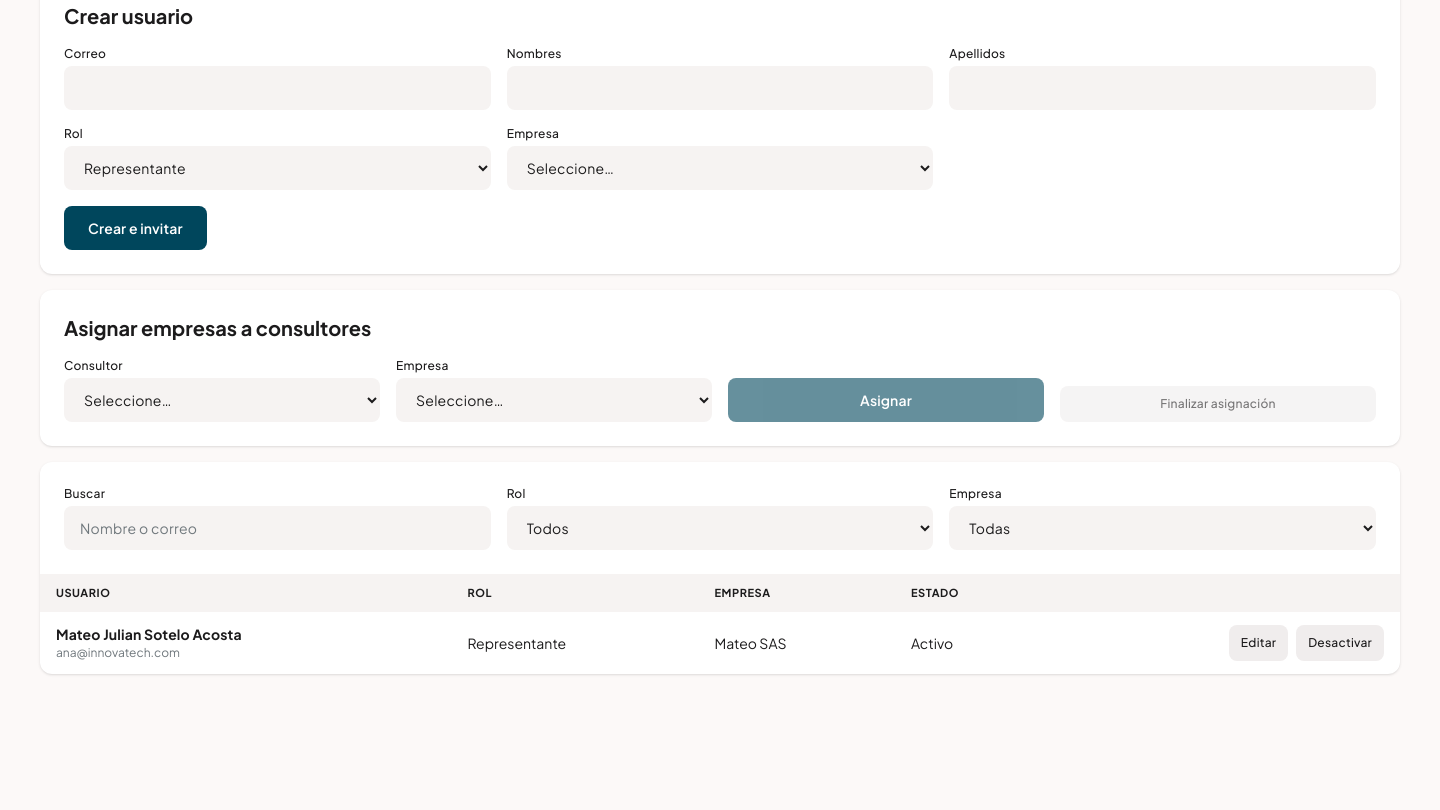
Test: Edición de usuarios › Cancelar o Escape cierran sin guardar
(page scrolled)
Expected: the text "Mateo Julian Sotelo Acosta" is shown, [56, 625, 242, 643]
Step 1. Click the button "Editar" → (1259, 643), box [1229, 625, 1288, 661]
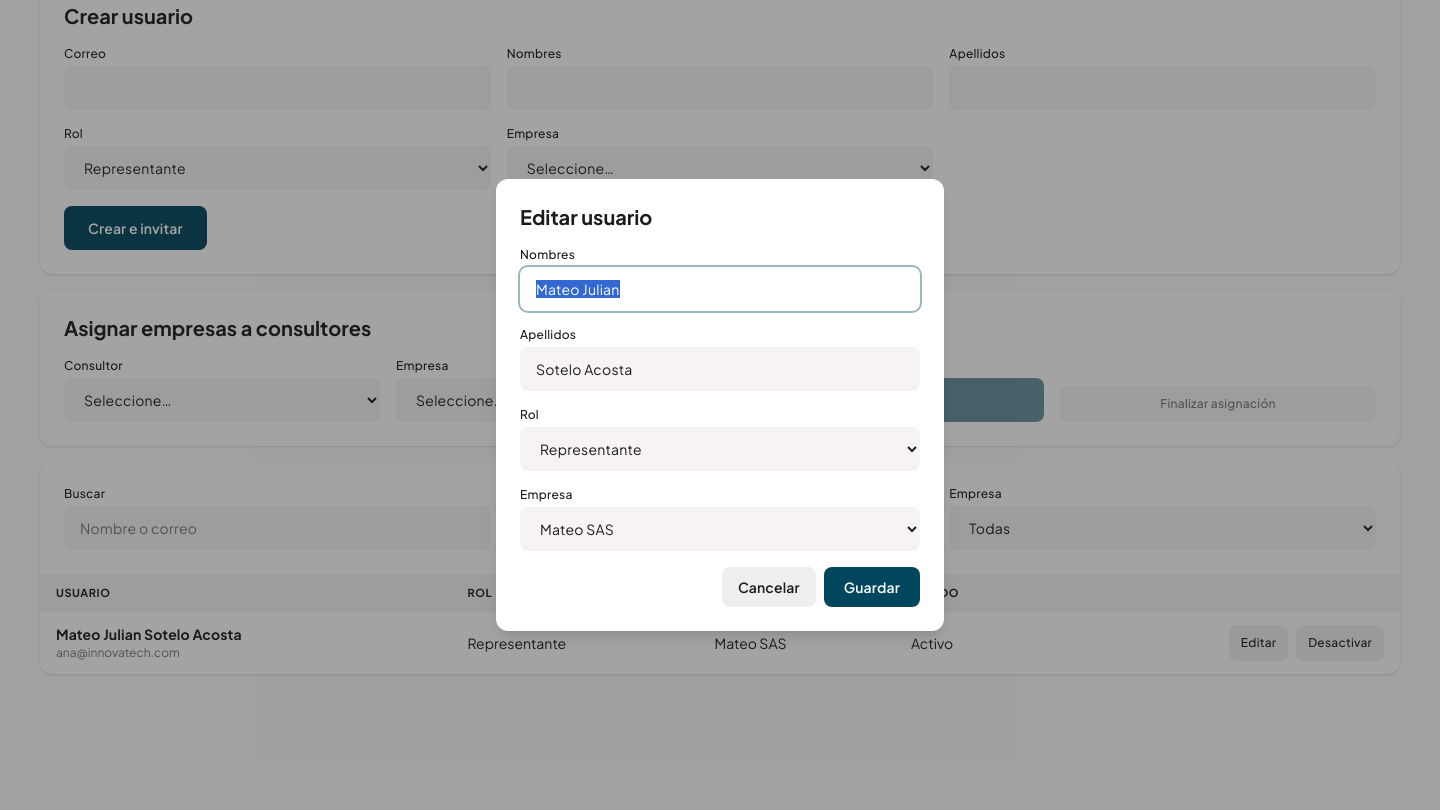
Step 2. Click the button "Cancelar" → (769, 587), box [722, 567, 816, 607]
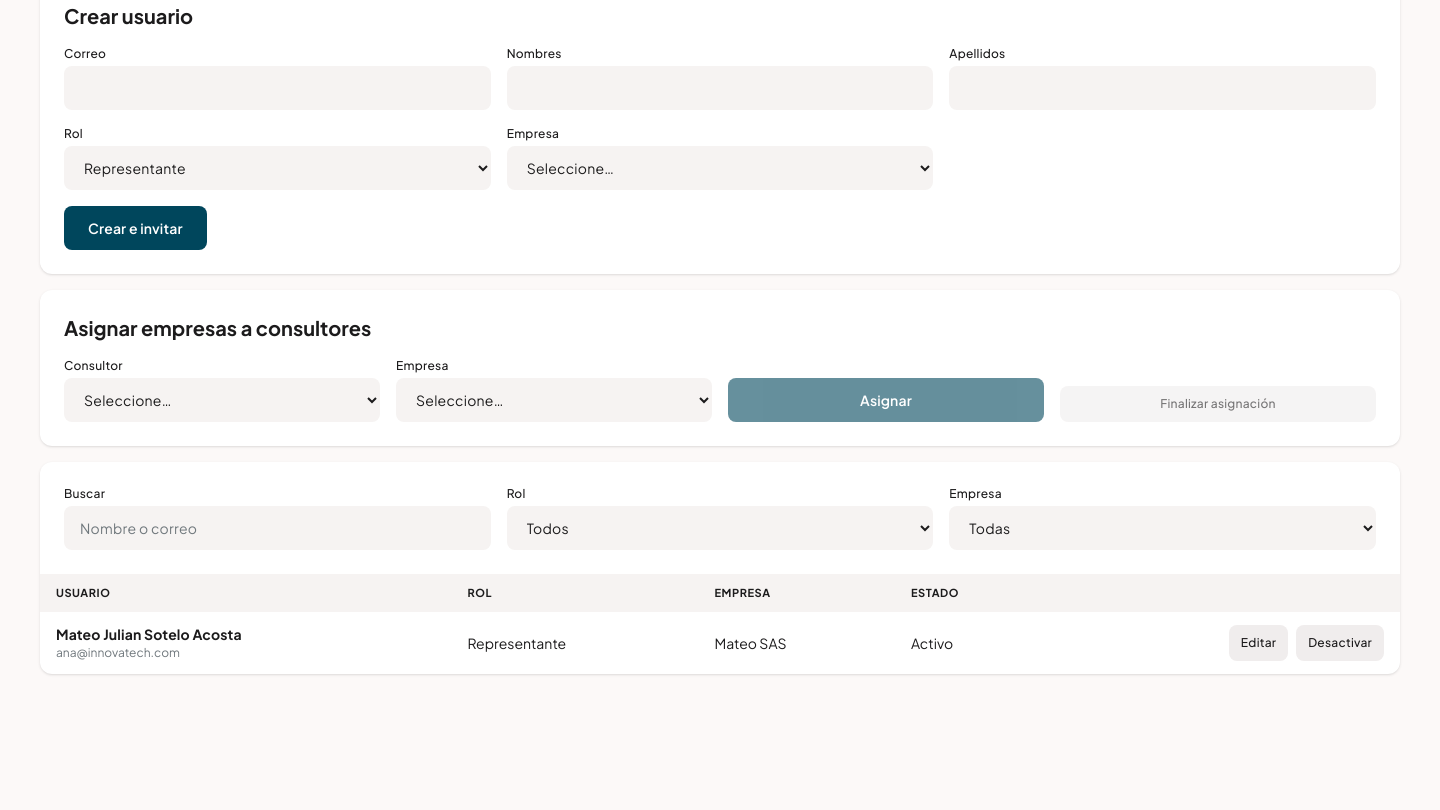
Expected: the dialog is gone
Step 3. Click the button "Editar" → (1259, 643), box [1229, 625, 1288, 661]
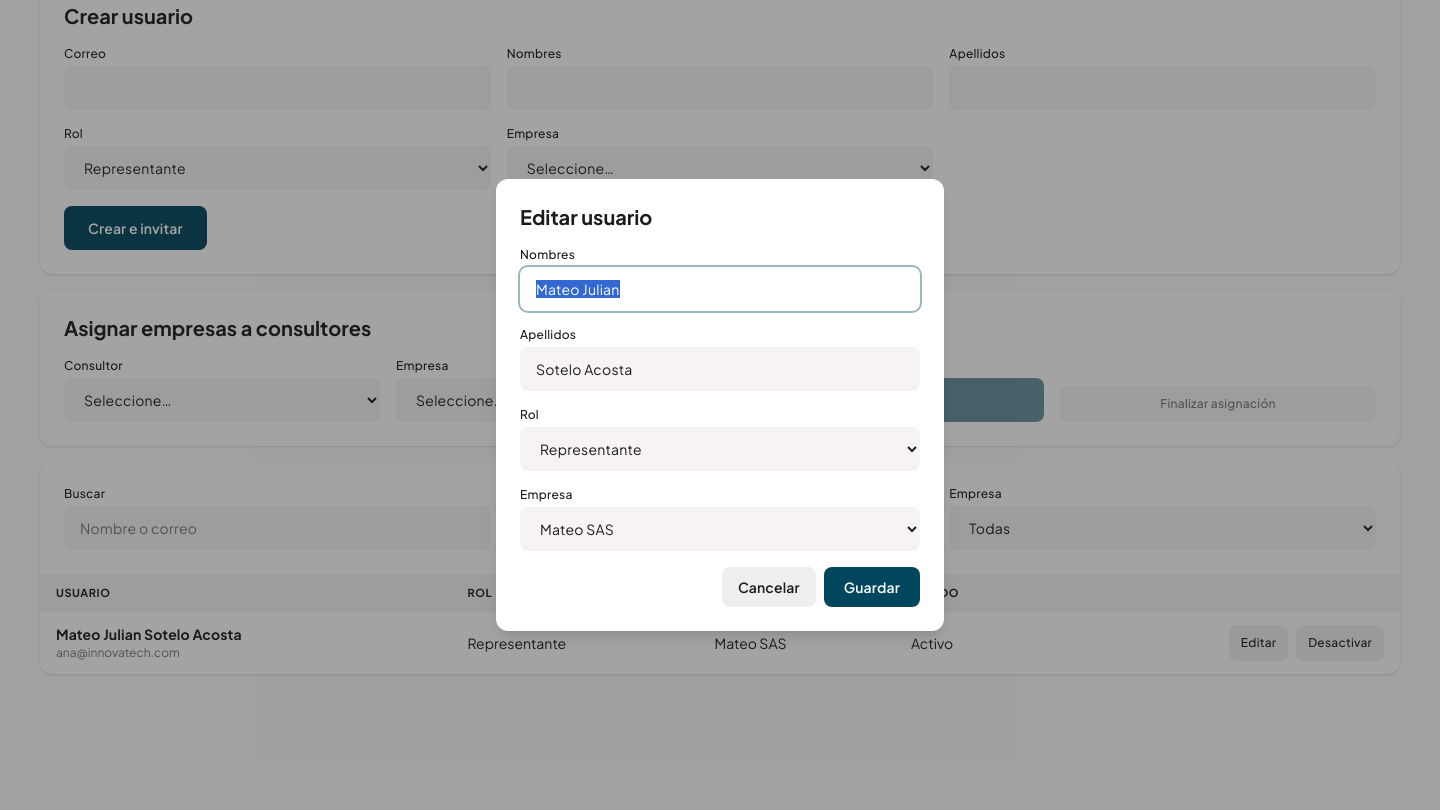
Step 4. Press Escape
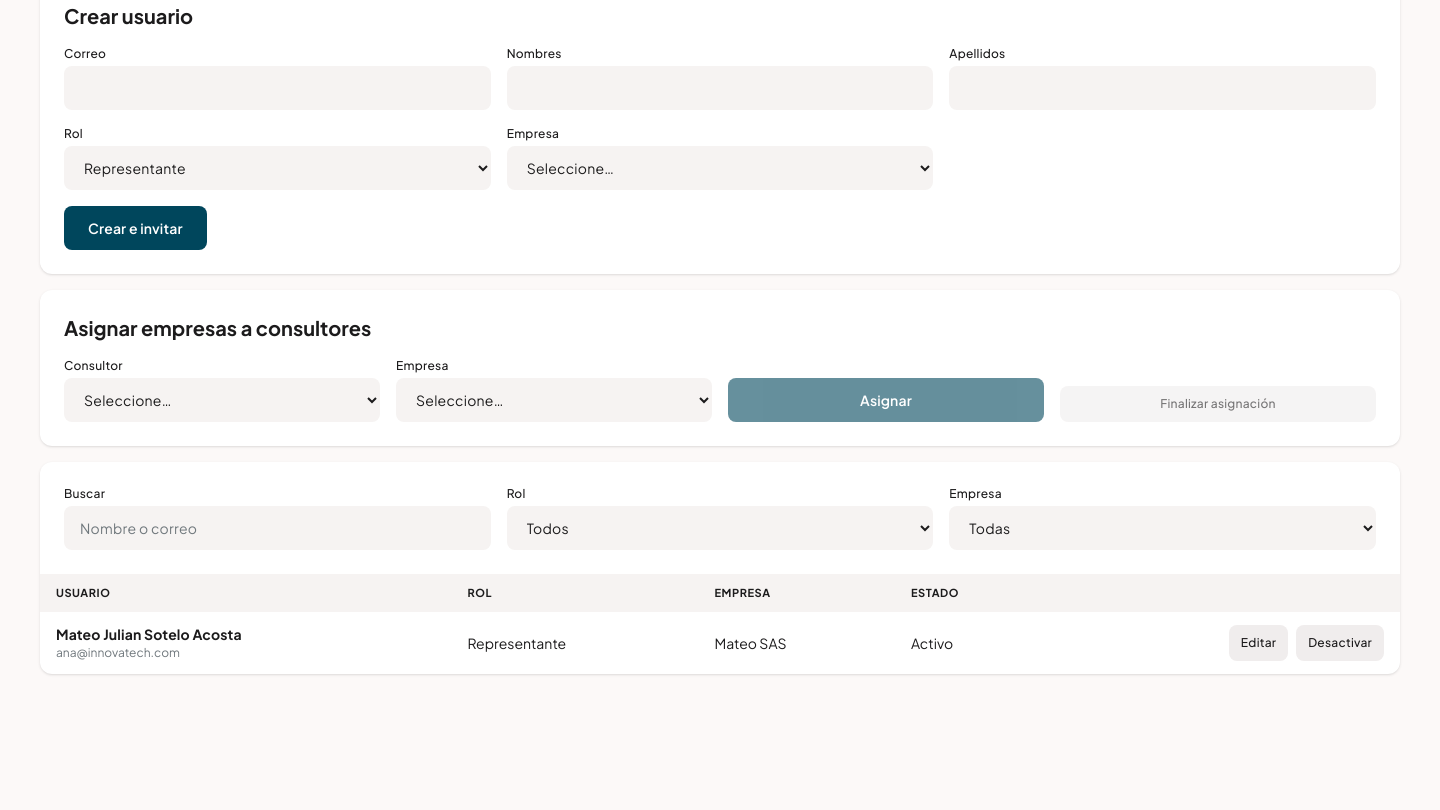
Expected: the dialog is gone
